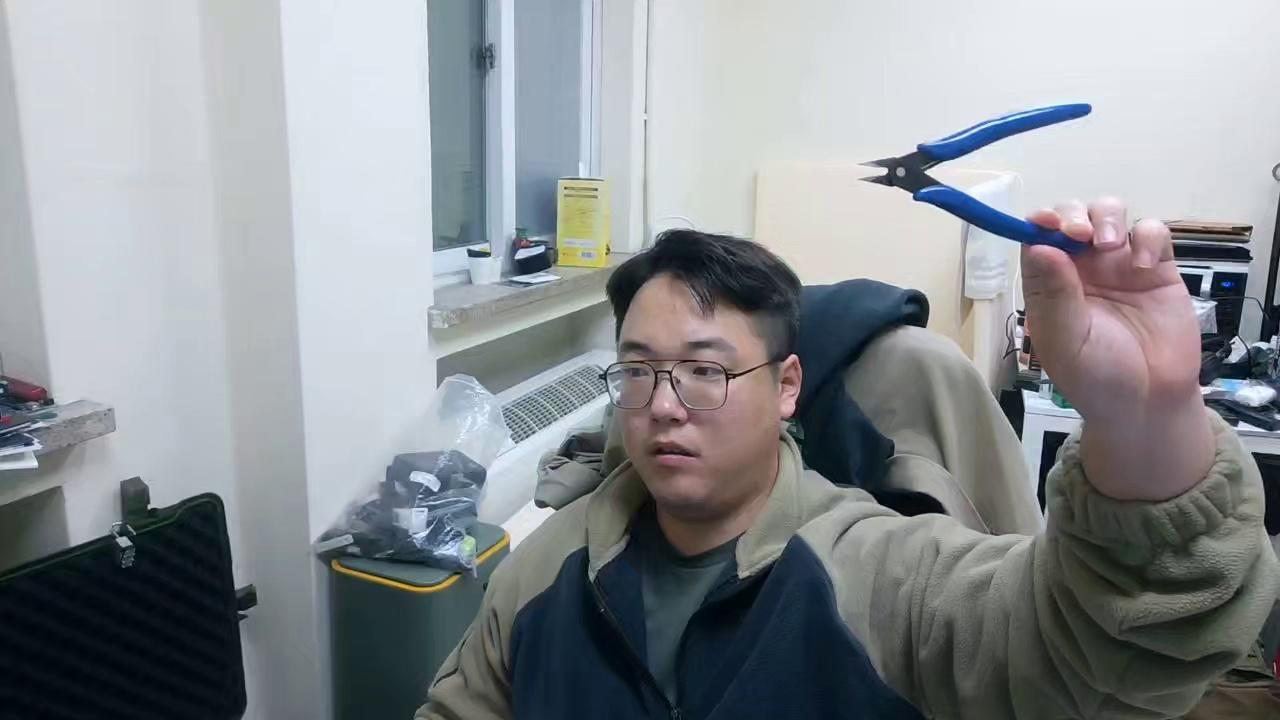blue_pliers: (857, 100, 1095, 257)
